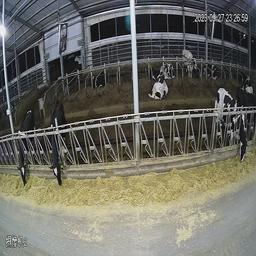cow: (213, 85, 253, 180), (43, 95, 71, 202), (14, 98, 40, 199), (140, 58, 168, 111), (179, 38, 199, 86), (81, 61, 110, 93), (158, 51, 179, 85), (204, 56, 224, 83)
